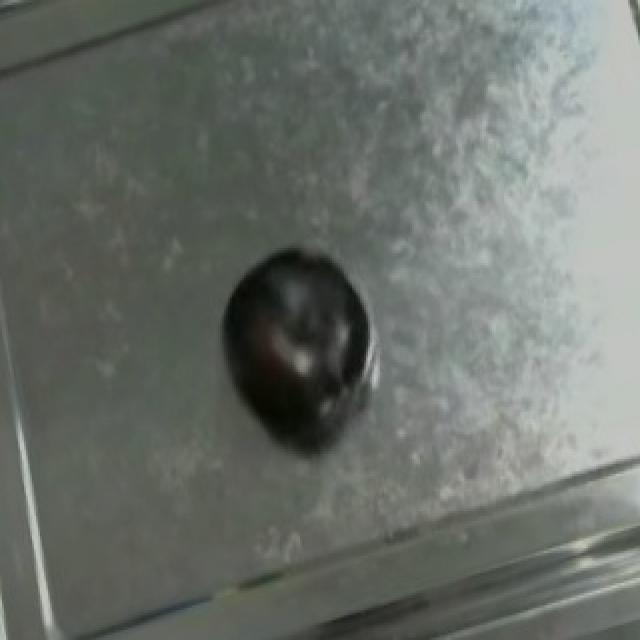Fruit: (208, 236, 390, 419)
